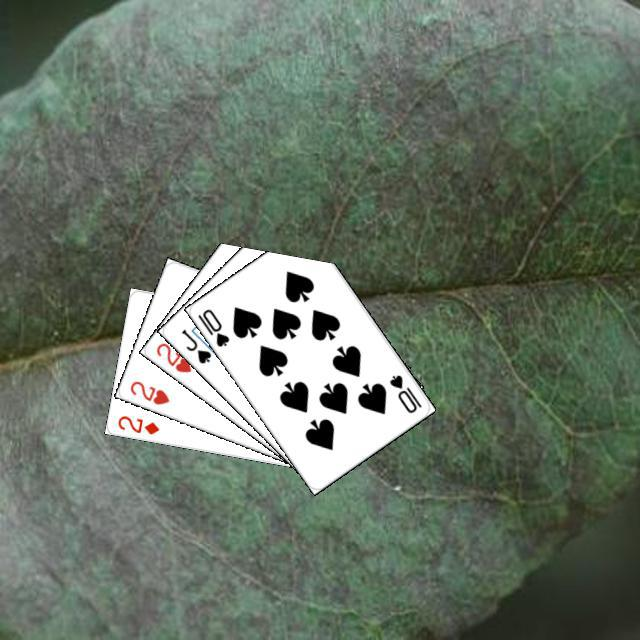10s: (192, 304, 231, 349), (384, 370, 423, 415)
2d: (113, 411, 161, 437)
2h: (151, 338, 193, 374), (125, 376, 171, 406)
Js: (176, 324, 213, 365)
